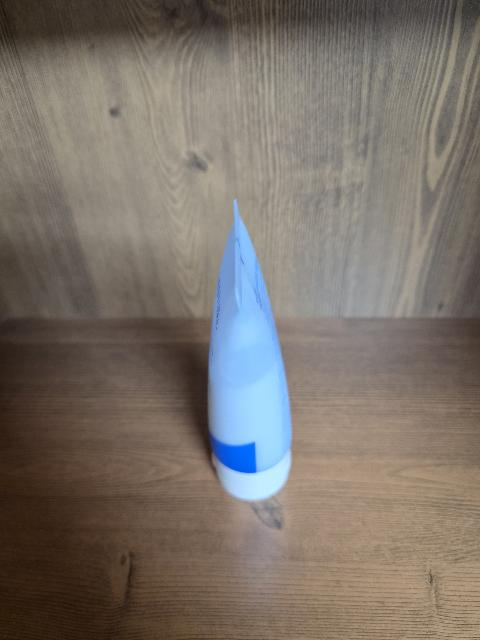handcream: (208, 199, 292, 501)
